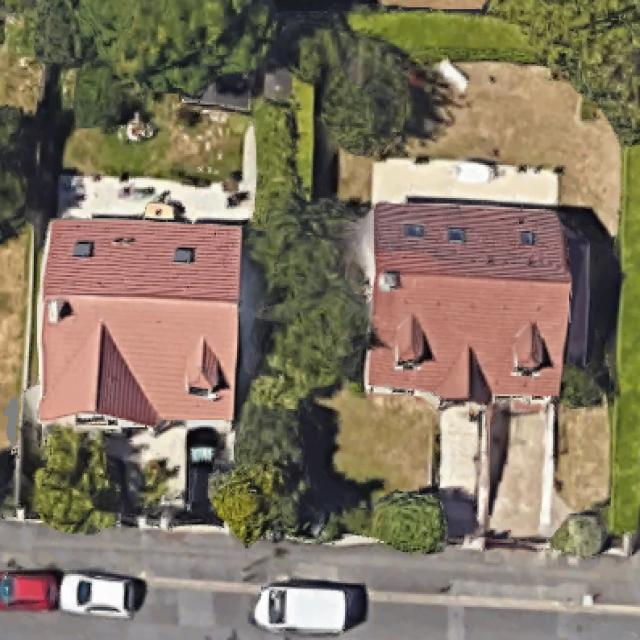maison: (359, 201, 578, 412), (36, 220, 239, 430)
